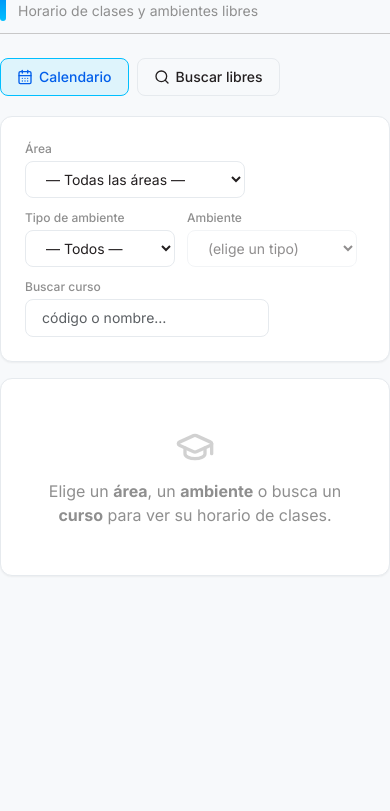
Test: AulasPage › marca como Feriado un día de RECESO (feriado operativo global, sin excepción de ciclo)
The width and height of the screenshot is (390, 811).
Select "Laboratorio" in the dropdown below "Tipo de ambiente". click: (100, 248)
box: [25,230,175,267]
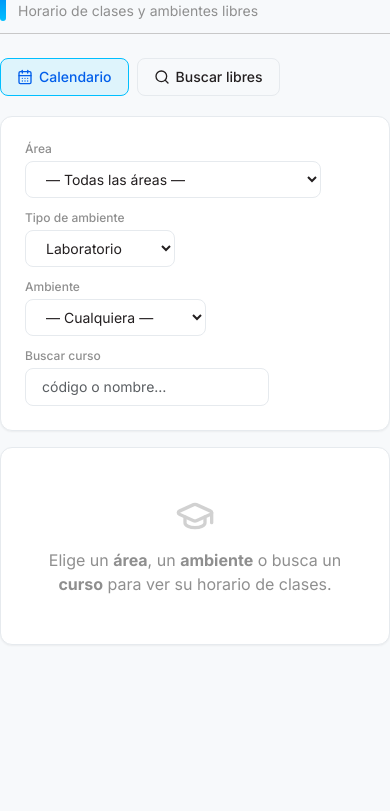
Select "L108 · Concept Lab" in the 3rd dropdown. click: (116, 318)
box: [25,299,206,336]
(page scrolled)
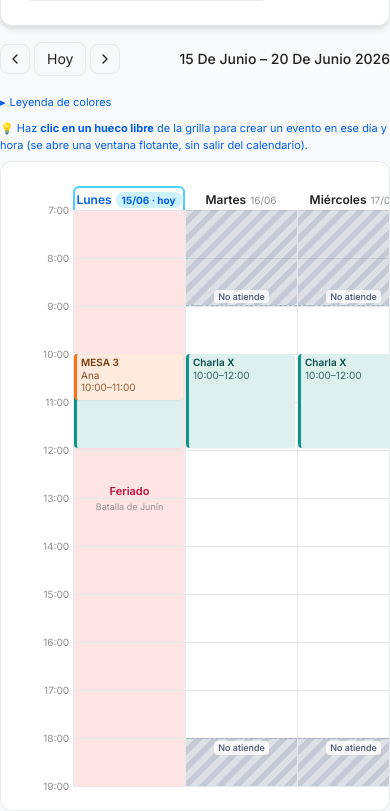
Check: the text "Batalla de Junín" is shown, box [96,500,163,513]
